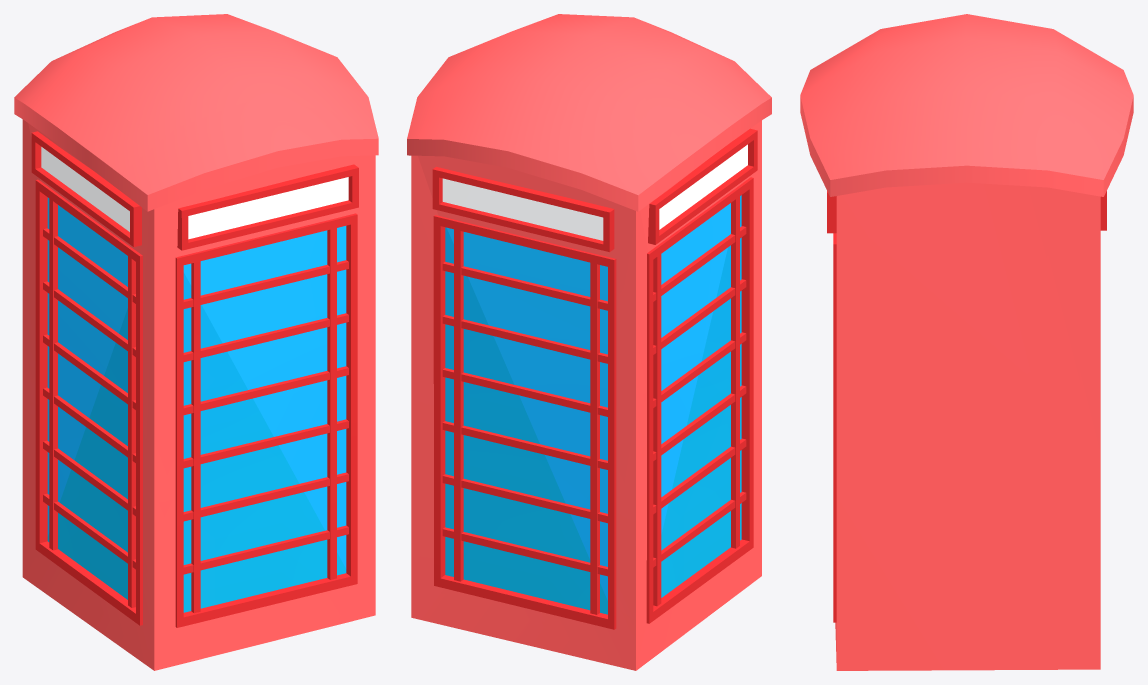
File: city2-phone-booth-01.glb
3 views of the same model, side by side, from view 1: azimuth 30°, elevation 25°; view 2: azimuth 150°, elevation 25°; view 3: azimuth 270°, elevation 25° (orthographic). The views are drawn at different scales.
Visible parts, largest first — view 1: Phone_Booth_01; view 2: Phone_Booth_01; view 3: Phone_Booth_01.
Part boxes in pixels (box(x1,y1,x2,y2)): Phone_Booth_01: box(14, 14, 378, 670); Phone_Booth_01: box(407, 14, 771, 670); Phone_Booth_01: box(800, 14, 1133, 670).
Size of the model in its own units: 1.52 by 2.89 by 1.52.
1 material, 1 textured.
